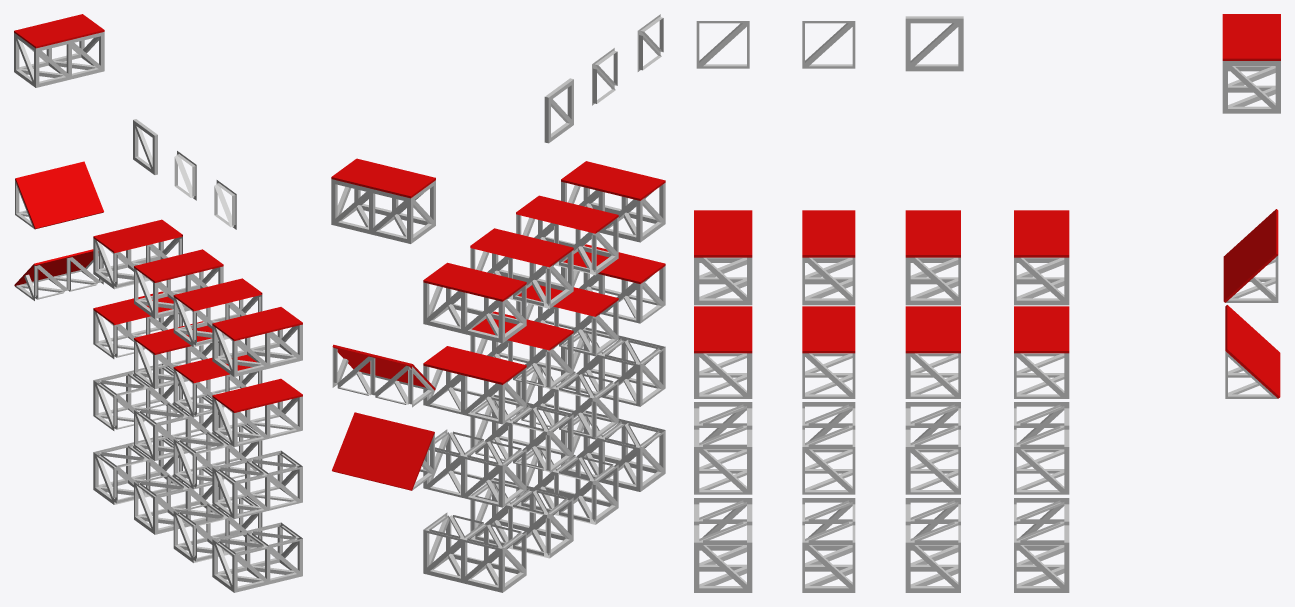
File: TilesetFactory.fbx
3 views of the same model, side by side, from view 1: azimuth 30°, elevation 25°; view 2: azimuth 150°, elevation 25°; view 3: azimuth 270°, elevation 25° (orthographic). The views are drawn at different scales.
Visible parts, largest first — view 1: HoverBlock, Ramp_L, FloorBlock, CeilingBlock, WallBlock, _CoverCube, HoverCorner_R, HoverCorner_L, HoverPiece, CeilingCorner_R, CeilingCorner_L, CeilingPiece (+11 smaller); view 2: Ramp_R, HoverCorner_R, FloorCorner_R, HoverBlock, CeilingCorner_R, _CoverCube, HoverCorner_L, HoverPiece, CeilingBlock, CeilingCorner_L, WallCorner_R, WallBlock (+11 smaller); view 3: HoverBlock, HoverCorner_R, HoverCorner_L, FloorBlock, HoverPiece, FloorCorner_R, FloorCorner_L, CeilingBlock, FloorPiece, CeilingCorner_R, CeilingCorner_L, WallBlock (+11 smaller).
Boxes of the visible parts, x1=… form: HoverBlock: x1=212, y1=307, x2=302, y2=376; Ramp_L: x1=15, y1=161, x2=103, y2=229; FloorBlock: x1=212, y1=378, x2=302, y2=447; CeilingBlock: x1=212, y1=522, x2=302, y2=592; WallBlock: x1=212, y1=450, x2=302, y2=519; _CoverCube: x1=14, y1=14, x2=104, y2=87; HoverCorner_R: x1=93, y1=219, x2=182, y2=289; HoverCorner_L: x1=134, y1=249, x2=223, y2=318; HoverPiece: x1=173, y1=278, x2=262, y2=347; CeilingCorner_R: x1=93, y1=435, x2=182, y2=504; CeilingCorner_L: x1=134, y1=465, x2=223, y2=534; CeilingPiece: x1=173, y1=497, x2=262, y2=562; Ramp_R: x1=332, y1=412, x2=434, y2=490; HoverCorner_R: x1=423, y1=262, x2=526, y2=343; FloorCorner_R: x1=423, y1=346, x2=526, y2=424; HoverBlock: x1=561, y1=161, x2=665, y2=242; CeilingCorner_R: x1=423, y1=512, x2=526, y2=592; _CoverCube: x1=331, y1=158, x2=435, y2=243; HoverCorner_L: x1=470, y1=228, x2=573, y2=308; HoverPiece: x1=516, y1=195, x2=618, y2=275; CeilingBlock: x1=561, y1=410, x2=665, y2=491; CeilingCorner_L: x1=470, y1=478, x2=573, y2=558; WallCorner_R: x1=423, y1=429, x2=526, y2=507; WallBlock: x1=561, y1=327, x2=665, y2=406; HoverBlock: x1=694, y1=210, x2=752, y2=305; HoverCorner_R: x1=1014, y1=210, x2=1069, y2=305; HoverCorner_L: x1=905, y1=210, x2=960, y2=305; FloorBlock: x1=694, y1=306, x2=752, y2=398; HoverPiece: x1=802, y1=210, x2=855, y2=305; FloorCorner_R: x1=1014, y1=306, x2=1069, y2=398; FloorCorner_L: x1=905, y1=306, x2=960, y2=398; CeilingBlock: x1=694, y1=498, x2=752, y2=592; FloorPiece: x1=802, y1=306, x2=855, y2=398; CeilingCorner_R: x1=1014, y1=498, x2=1069, y2=592; CeilingCorner_L: x1=905, y1=498, x2=960, y2=592; WallBlock: x1=694, y1=402, x2=752, y2=494.
Bounding box in the file's own units: 201 × 1115 × 1110.
